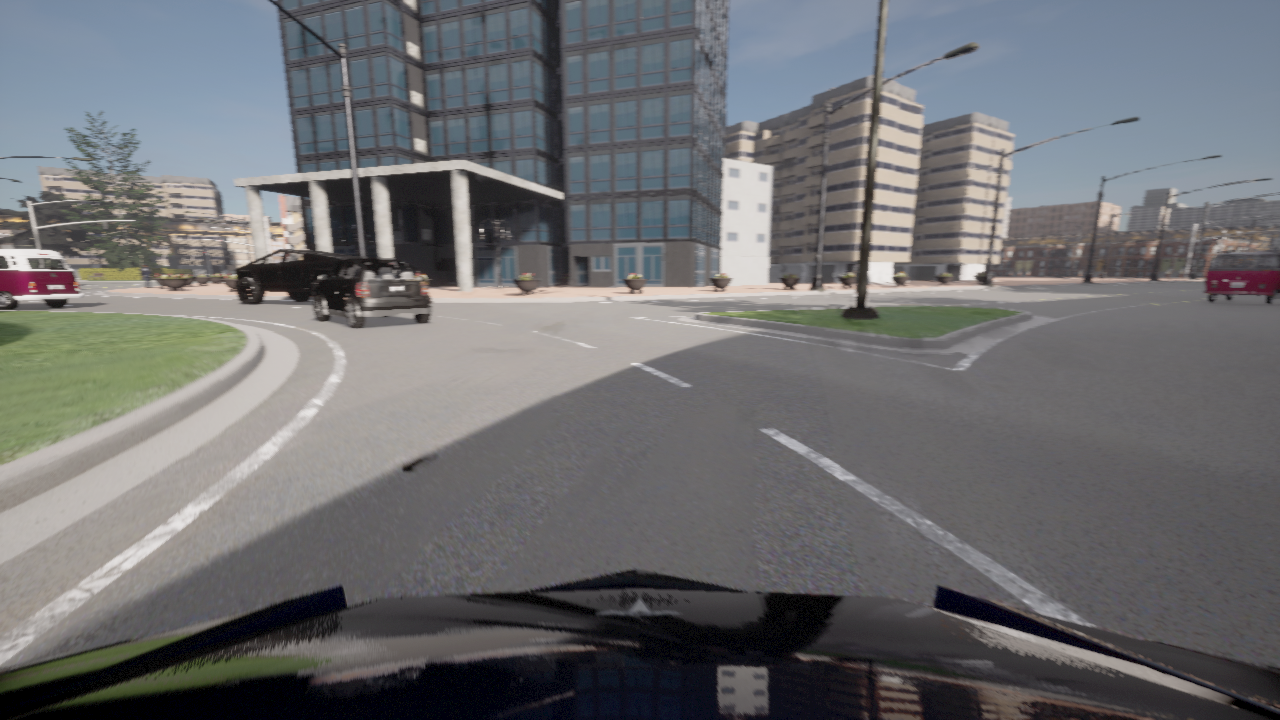cyclist: (0, 569, 1279, 719), (313, 258, 432, 328), (234, 249, 365, 303), (1203, 252, 1279, 304)
pedestrian: (141, 264, 153, 287)
